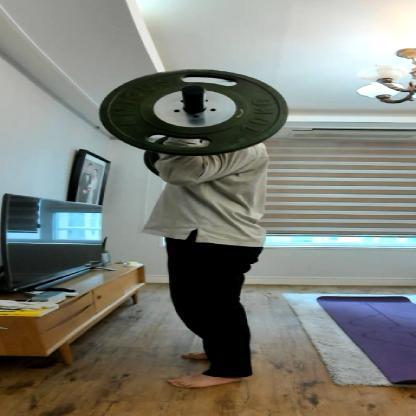Barbell: (182, 84, 210, 101)
